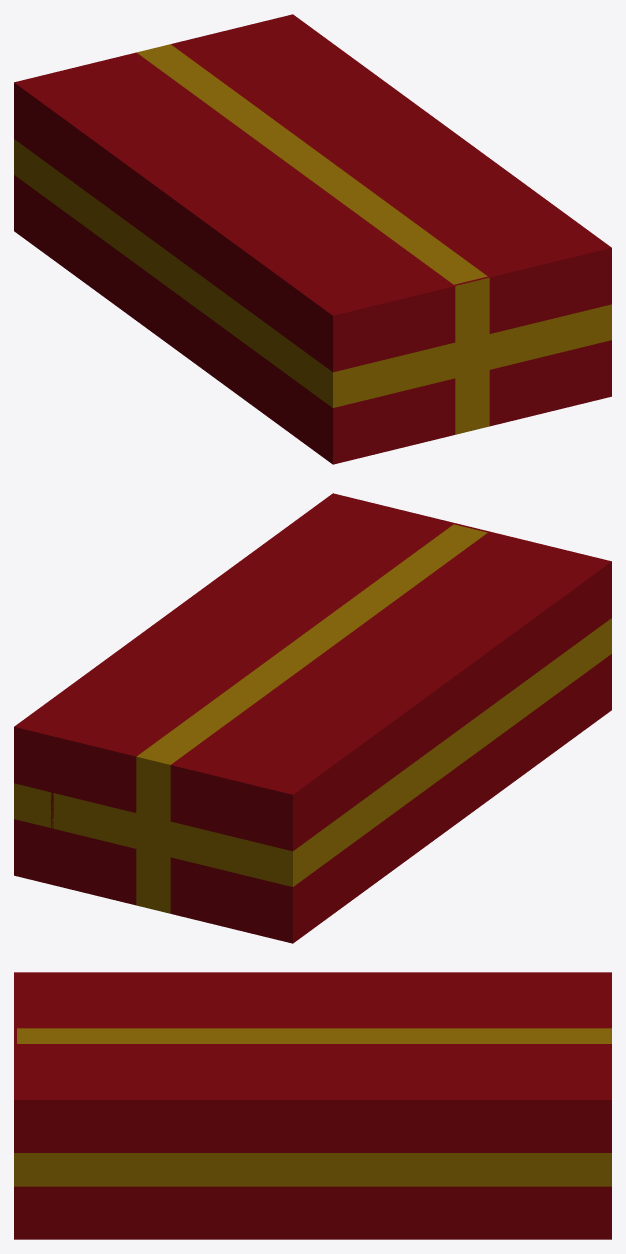
File: Present3.fbx
3 views of the same model, one above another, from view 1: azimuth 30°, elevation 25°; view 2: azimuth 150°, elevation 25°; view 3: azimuth 270°, elevation 25° (orthographic). The views are drawn at different scales.
Parts seen in each view (by area): view 1: Cube; view 2: Cube; view 3: Cube.
Boxes of the visible parts, bbox=[...] form: Cube: bbox=[14, 14, 611, 464]; Cube: bbox=[14, 493, 611, 943]; Cube: bbox=[14, 972, 611, 1239].
Bounding box in the file's own units: 204 × 104 × 404.
